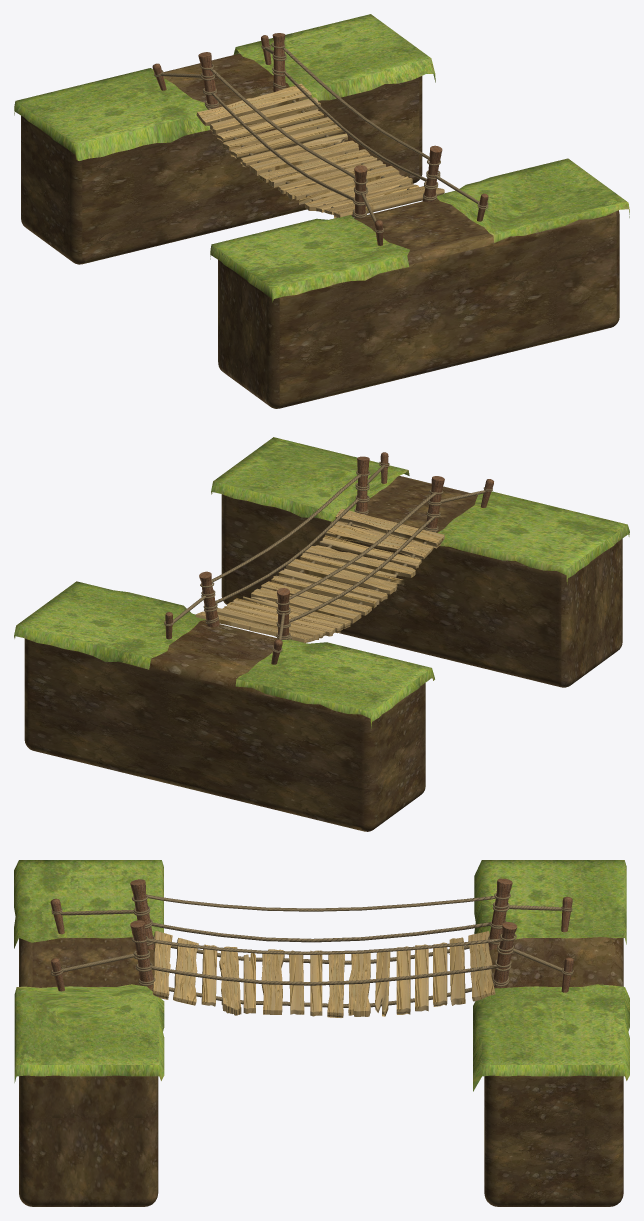
File: maya2sketchfab.fbx
3 renders of one model, top to bottom at view 1: azimuth 30°, elevation 25°; view 2: azimuth 150°, elevation 25°; view 3: azimuth 270°, elevation 25°, orthographic. The views are drawn at different scales.
Visible parts, largest first — view 1: pCube23, pCube22, pPlane6, pPlane7, pPlane8, pPlane9, woodenplank8, pCube9, pPlane5, pCube5, pCube7, pPlane4 (+15 smaller); view 2: pCube22, pCube23, pPlane7, pPlane8, pPlane6, pPlane9, woodenplank5, woodenplank4, pPlane4, woodenplank6, pPlane5, pCube3 (+15 smaller); view 3: pCube23, pCube22, pPlane8, pPlane9, pPlane7, pPlane6, pCube16, pCube20, pCube18, pCube19, woodenplank8, pPlane5 (+18 smaller).
Part boxes in pixels (x1,y1,x2,y2): pCube23: [218, 198, 619, 408]; pCube22: [21, 53, 422, 264]; pPlane6: [14, 68, 209, 160]; pPlane7: [210, 215, 409, 302]; pPlane8: [233, 14, 435, 101]; pPlane9: [437, 158, 629, 242]; woodenplank8: [196, 83, 311, 125]; pCube9: [210, 97, 320, 135]; pPlane5: [249, 140, 358, 175]; pCube5: [230, 124, 343, 158]; pCube7: [217, 109, 323, 142]; pPlane4: [286, 166, 399, 200]; pCube22: [24, 620, 425, 831]; pCube23: [221, 476, 622, 687]; pPlane7: [437, 491, 629, 584]; pPlane8: [14, 581, 205, 669]; pPlane6: [235, 639, 434, 728]; pPlane9: [211, 437, 409, 521]; woodenplank5: [325, 521, 433, 559]; woodenplank4: [335, 508, 444, 548]; pPlane4: [286, 559, 397, 594]; woodenplank6: [303, 545, 415, 577]; pPlane5: [251, 587, 361, 623]; pCube3: [319, 535, 421, 568]; pCube23: [19, 937, 158, 1206]; pCube22: [484, 937, 623, 1206]; pPlane8: [473, 984, 629, 1091]; pPlane9: [14, 984, 164, 1082]; pPlane7: [14, 860, 163, 948]; pPlane6: [474, 860, 626, 944]; pCube16: [151, 964, 509, 985]; pCube20: [152, 922, 490, 942]; pCube18: [146, 938, 503, 954]; pCube19: [146, 895, 496, 911]; woodenplank8: [468, 931, 495, 1001]; pPlane5: [348, 953, 370, 1016].
Bounding box in the file's own units: 36.21 × 16.89 × 44.96.
5 materials, 5 textured.
